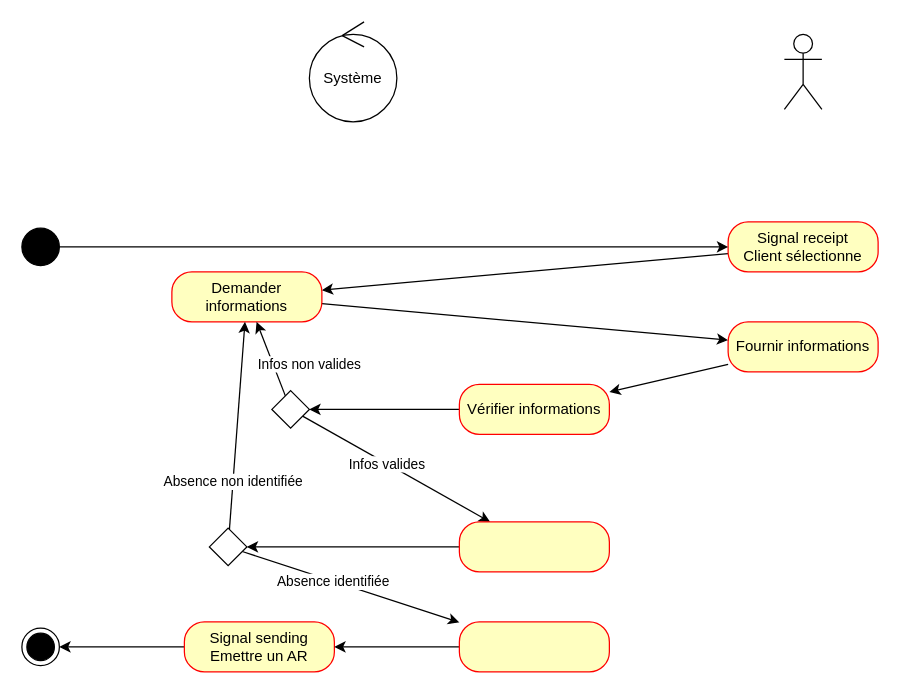
Image size: 900x694. Some labels were removed from this diagram. Here are the shapes that lost their labels. From the top down, the centre of each, then its label:
[802,71]: Client
[533,546]: Identifier absence
[533,646]: Traiter absence
